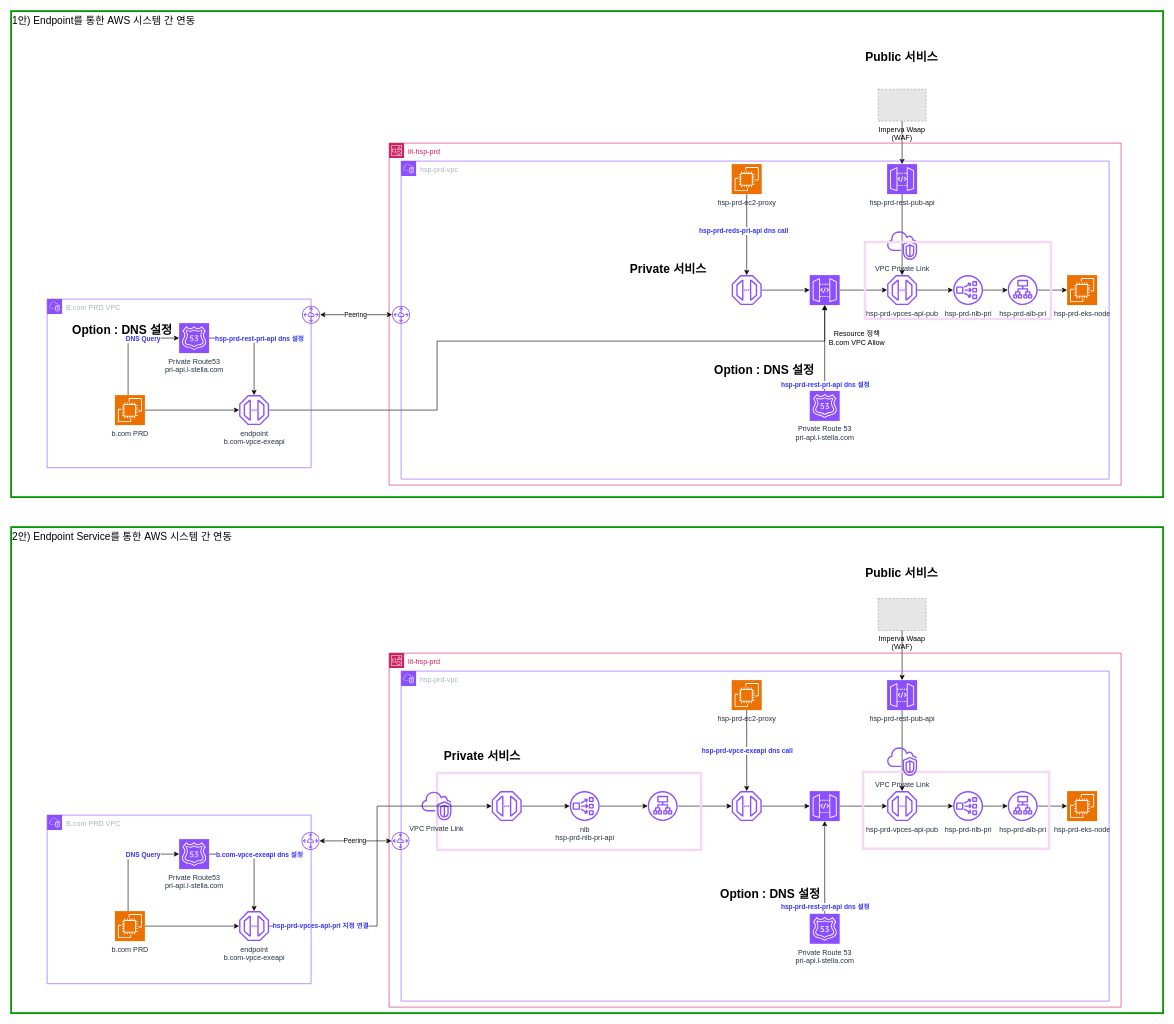
Image size: 1174x1024. Some labels were removed from this diagram. Grey dashed boxes stand in for pictures. Each missing label, with the centre of its shape:
"alb hsp-prd-alb-pri-api" belongs at (662,806).
"endpoint hsp-prd-vpce-exeapi" belongs at (746,806).
"endpoint service hsp-prd-vpces-api-pri" belongs at (506,806).
"hsp-prd-rest-pri-api" belongs at (824,805).
"hsp-prd-rest-pri-api dns 활성화" belongs at (824,289).
"hsp-prd-vpce-exeapi (endpoint) dns 활성화" belongs at (746,290).
